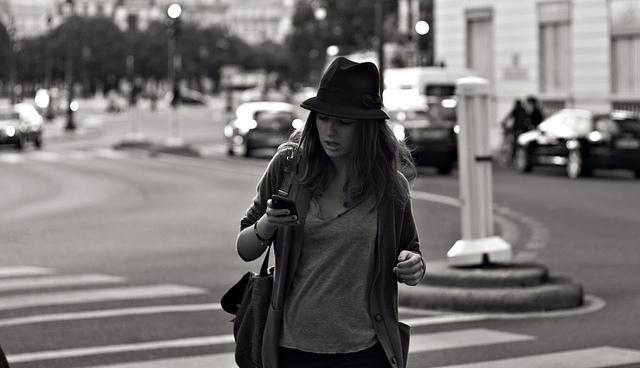bicycle: (495, 126, 514, 172)
car: (512, 106, 640, 180), (387, 110, 458, 176), (224, 101, 305, 156), (0, 100, 46, 150), (166, 87, 211, 107)
